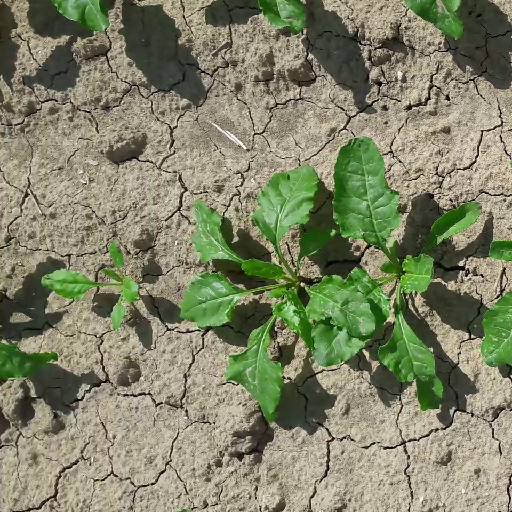sugarbeet: (308, 134, 487, 413), (178, 164, 354, 429), (37, 238, 144, 334)
